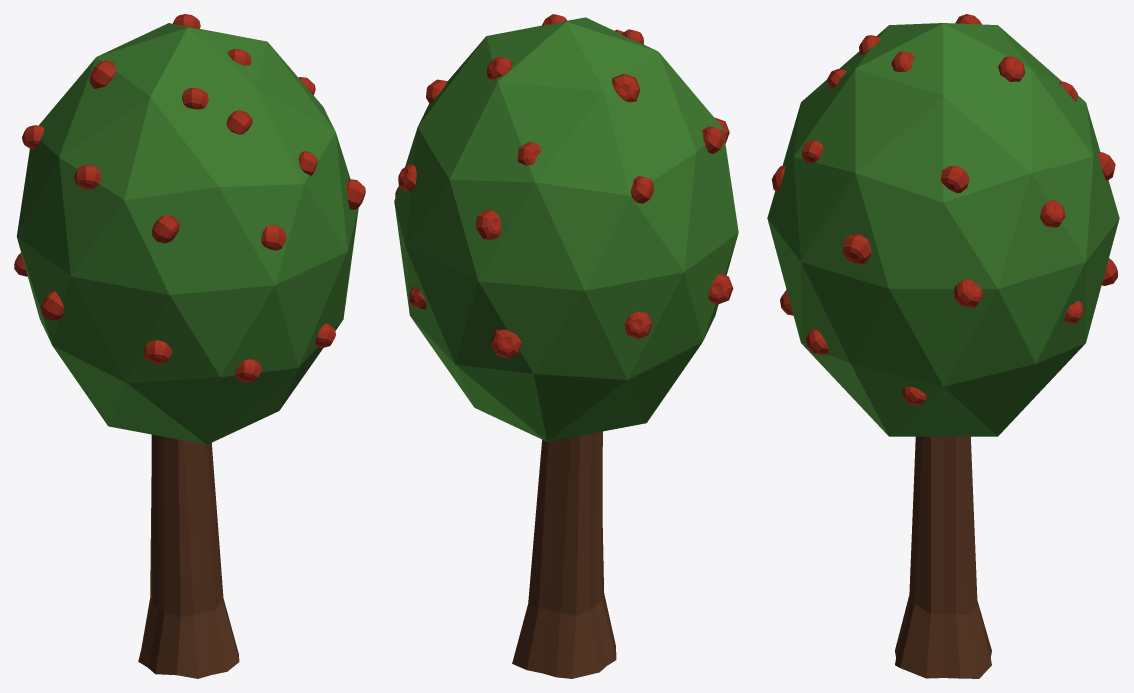
File: TreeApple_1.fbx
The picture shows the model from 3 angles, left to right: view 1: azimuth 30°, elevation 25°; view 2: azimuth 150°, elevation 25°; view 3: azimuth 270°, elevation 25°; orthographic projection.
Visible parts, largest first — view 1: TreeApple_1; view 2: TreeApple_1; view 3: TreeApple_1.
Boxes of the visible parts, <box> form: TreeApple_1: <box>14,14,365,678</box>; TreeApple_1: <box>394,14,738,678</box>; TreeApple_1: <box>767,14,1119,678</box>.
Size of the model in its own units: 133 by 260 by 130.
